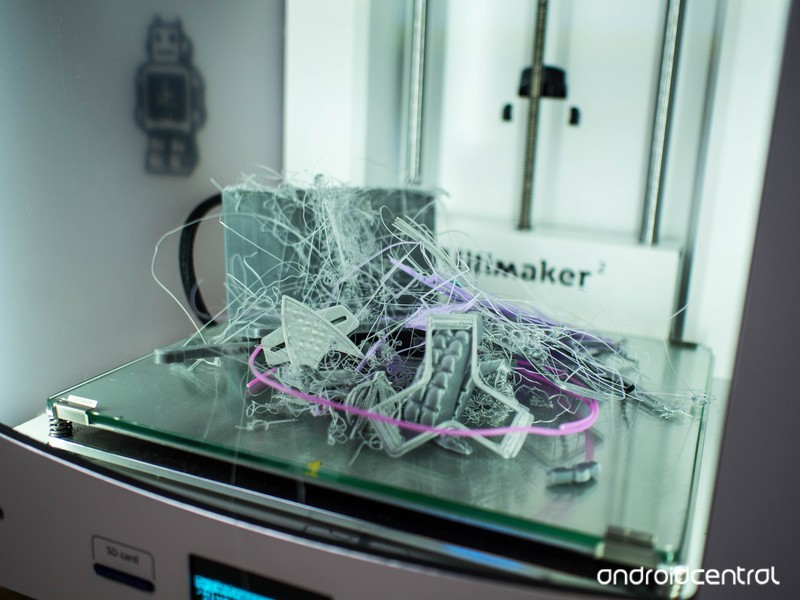fail: (210, 169, 491, 315), (480, 295, 717, 437), (232, 353, 392, 451)
